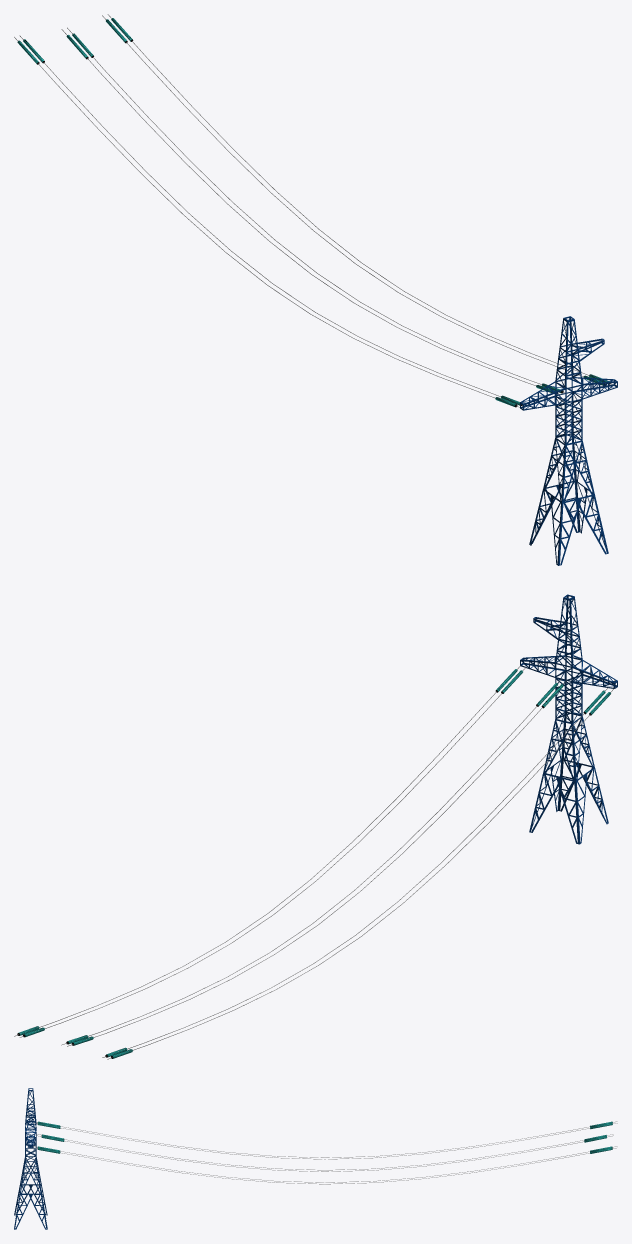
The model's file is HighVoltageTowerLine.obj.
3 views of the same model, one above another, from view 1: azimuth 30°, elevation 25°; view 2: azimuth 150°, elevation 25°; view 3: azimuth 270°, elevation 25° (orthographic). The views are drawn at different scales.
Parts seen in each view (by area): view 1: polySurface28_Mesh; view 2: polySurface28_Mesh; view 3: polySurface28_Mesh.
Boxes of the visible parts, x1,y1,x2,y2 form: polySurface28_Mesh: (14,14,617,565); polySurface28_Mesh: (14,594,617,1059); polySurface28_Mesh: (14,1088,617,1229).
Bounding box in the file's own units: 4.8 × 10.96 × 45.02.
